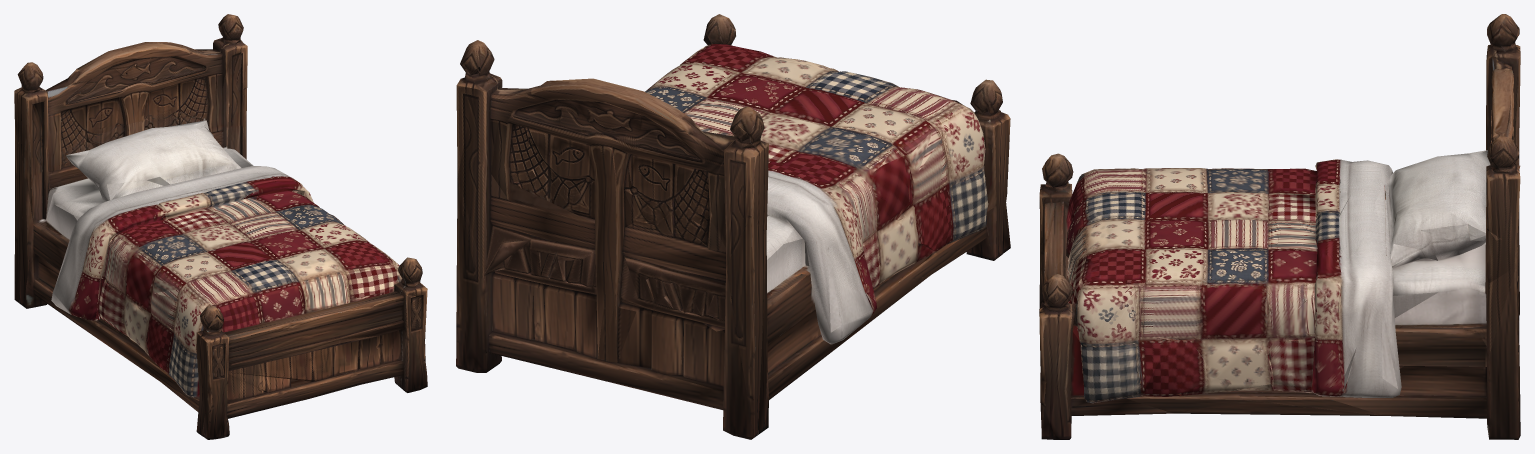
Rendered from Prop_Bed.fbx.
3 views of the same model, side by side, from view 1: azimuth 30°, elevation 25°; view 2: azimuth 150°, elevation 25°; view 3: azimuth 270°, elevation 25° (orthographic). The views are drawn at different scales.
Visible parts, largest first — view 1: Mesh_0; view 2: Mesh_0; view 3: Mesh_0.
Boxes of the visible parts, x1,y1,x2,y2 form: Mesh_0: [14, 14, 427, 439]; Mesh_0: [456, 14, 1010, 439]; Mesh_0: [1039, 14, 1520, 439].
Size of the model in its own units: 143 by 130 by 190.
1 material, 1 textured.
